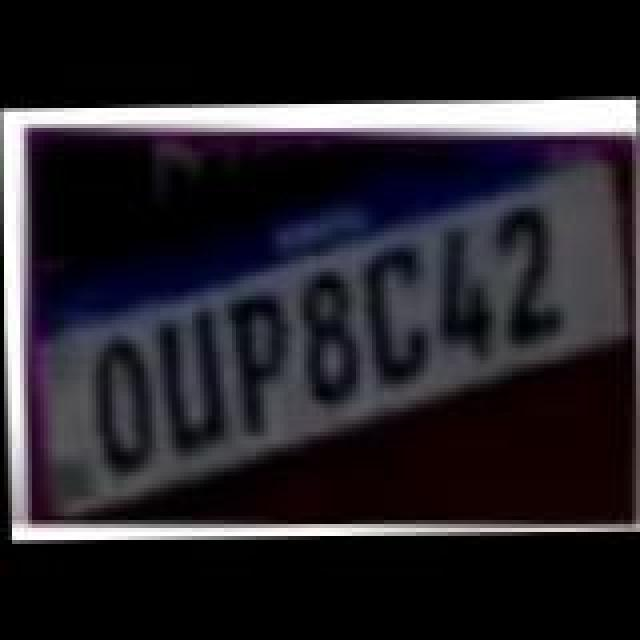2: (488, 206, 568, 346)
4: (426, 230, 502, 366)
8: (290, 272, 374, 408)
C: (352, 246, 440, 390)
O: (84, 336, 168, 480)
P: (218, 294, 302, 438)
U: (150, 312, 238, 460)
